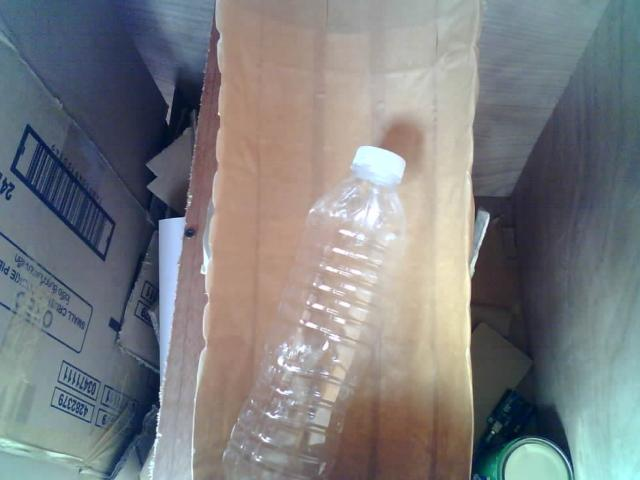small_bottle: (214, 130, 428, 480)
